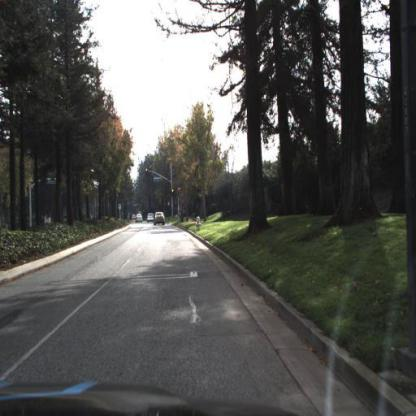car: (154, 211, 167, 227), (154, 210, 166, 227), (146, 210, 156, 224), (136, 213, 145, 225), (148, 212, 156, 224), (137, 214, 145, 224)
trafficLight-Red: (177, 182, 185, 200), (144, 165, 150, 178), (179, 185, 184, 200), (172, 188, 176, 199)
